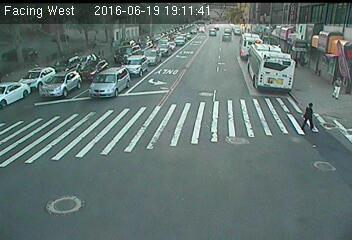neg: (72, 38, 86, 56), (31, 68, 42, 82)
pos: (298, 100, 321, 130), (330, 73, 351, 101)
